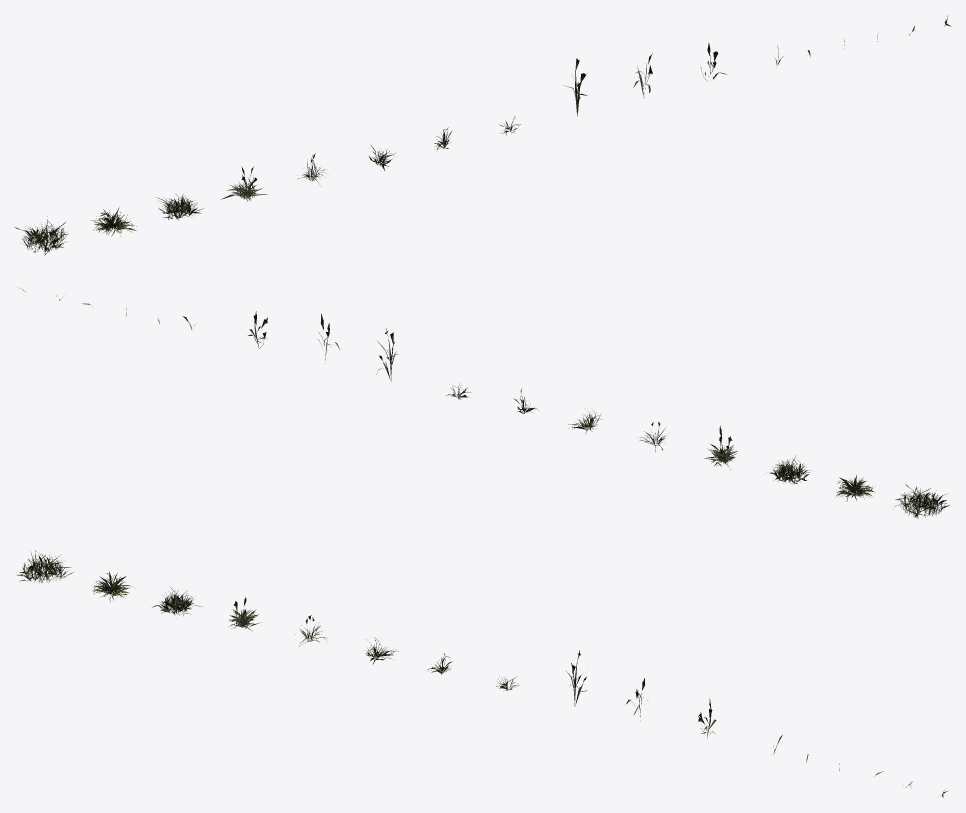
File: grass_medium_01_lod1.glb
The picture shows the model from 3 angles, top to bottom: view 1: azimuth 30°, elevation 25°; view 2: azimuth 150°, elevation 25°; view 3: azimuth 330°, elevation 25°; orthographic projection.
Visible parts, largest first — view 1: grass_medium_01_large_a_LOD0, grass_medium_01_large_c_LOD0, grass_medium_01_large_b_LOD0; view 2: grass_medium_01_large_a_LOD0, grass_medium_01_large_c_LOD0, grass_medium_01_large_b_LOD0; view 3: grass_medium_01_large_a_LOD0, grass_medium_01_large_c_LOD0.
Part boxes in pixels (bbox=[...]): grass_medium_01_large_a_LOD0: bbox=[15, 216, 68, 255]; grass_medium_01_large_c_LOD0: bbox=[157, 193, 203, 220]; grass_medium_01_large_b_LOD0: bbox=[91, 207, 136, 236]; grass_medium_01_large_a_LOD0: bbox=[893, 484, 949, 518]; grass_medium_01_large_c_LOD0: bbox=[769, 455, 810, 484]; grass_medium_01_large_b_LOD0: bbox=[835, 475, 875, 501]; grass_medium_01_large_a_LOD0: bbox=[17, 550, 73, 582]; grass_medium_01_large_c_LOD0: bbox=[152, 587, 202, 615].
Size of the model in its own units: 5.6 by 0.3389 by 0.3266.
Materials: 1 (1 with a texture image).
